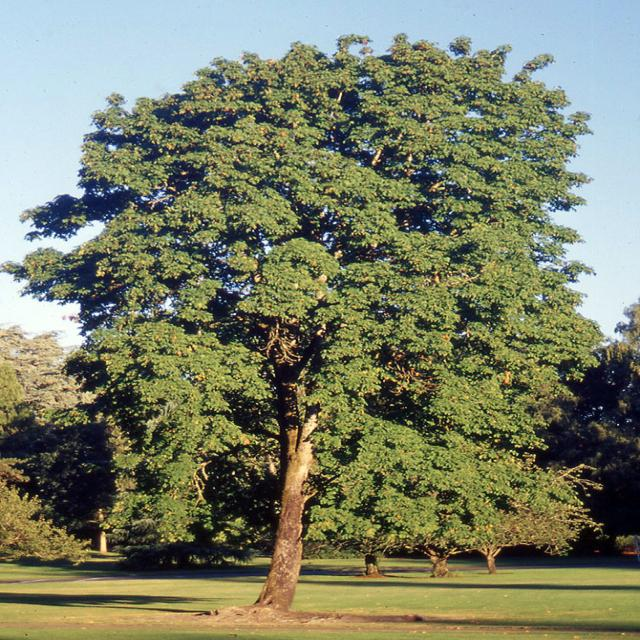Acer macrophyllum: (22, 34, 597, 615)
